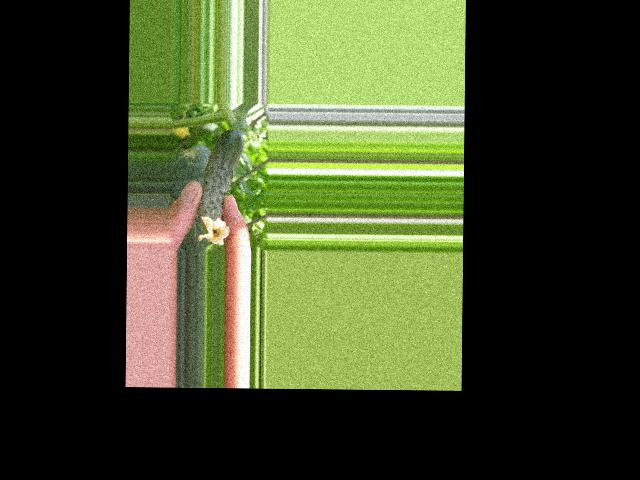cucumber: (197, 128, 243, 244)
